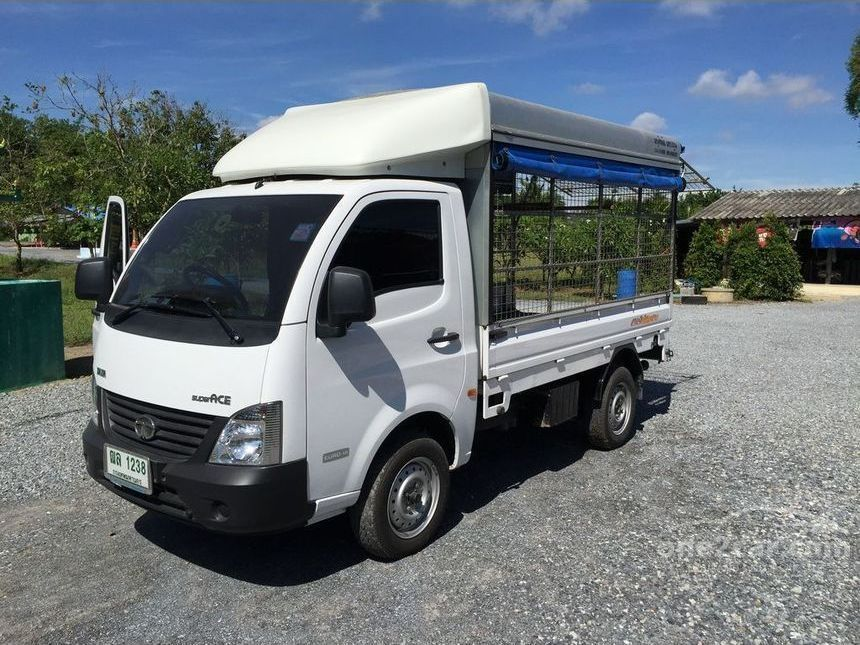pickup: (71, 176, 680, 558)
